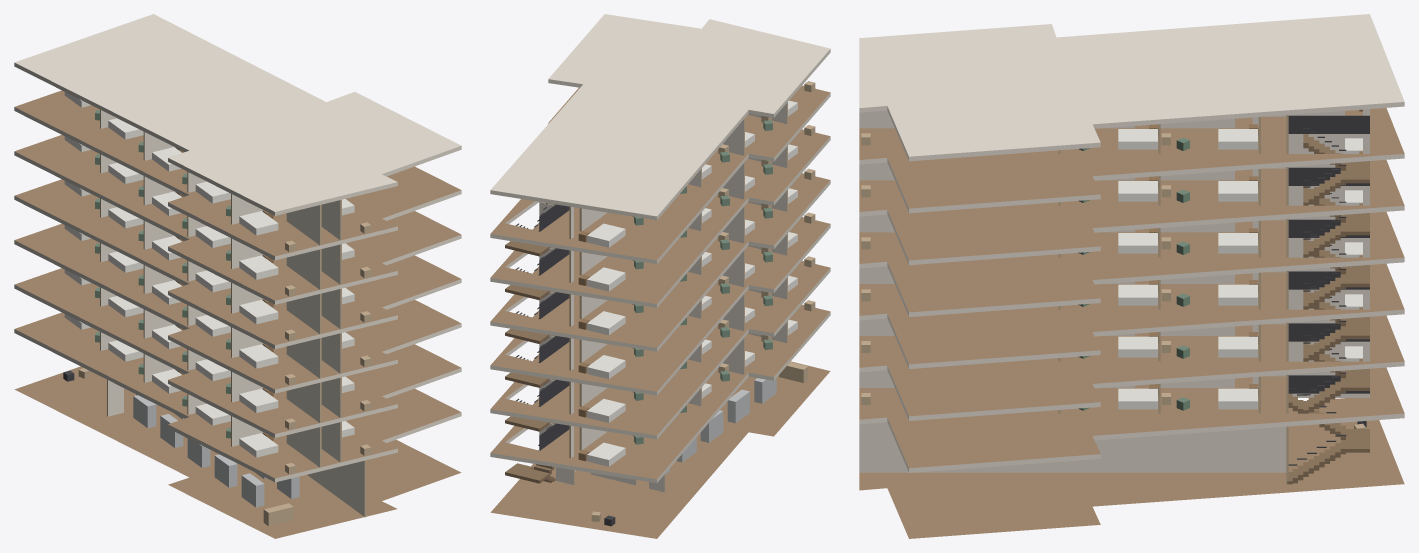
File: interior.glb
3 renders of one model, left to right at view 1: azimuth 30°, elevation 25°; view 2: azimuth 150°, elevation 25°; view 3: azimuth 270°, elevation 25°, orthographic. The views are drawn at different scales.
Visible parts, largest first — view 1: slabs, partitions, coarse-s0, coarse-s5, coarse-s3, coarse-s4, coarse-s1, coarse-s6, coarse-s2; view 2: slabs, partitions, stair, coarse-s0, coarse-s3, coarse-s6, coarse-s2, coarse-s1, coarse-s4, coarse-s5; view 3: slabs, partitions, stair, coarse-s3, coarse-s1, coarse-s2, coarse-s4, coarse-s5, coarse-s6.
Part boxes in pixels (x1,y1,x2,y2): slabs: (14,14,461,538); partitions: (100,109,366,517); coarse-s0: (63,368,299,526); coarse-s5: (64,136,371,296); coarse-s3: (64,225,371,385); coarse-s4: (64,181,371,340); coarse-s1: (64,314,371,474); coarse-s6: (64,92,371,251); coarse-s2: (64,270,371,429); slabs: (490,14,830,538); partitions: (539,102,787,492); stair: (505,203,569,483); coarse-s0: (591,362,808,526); coarse-s3: (578,212,815,379); coarse-s6: (578,81,815,247); coarse-s2: (578,256,815,422); coarse-s1: (578,300,815,466); coarse-s4: (578,168,815,335); coarse-s5: (578,125,815,291); slabs: (859,14,1404,538); partitions: (859,109,1369,484); stair: (1287,115,1369,484); coarse-s3: (861,242,1362,306); coarse-s1: (861,346,1362,410); coarse-s2: (861,294,1362,358); coarse-s4: (861,190,1362,254); coarse-s5: (861,138,1362,202); coarse-s6: (861,109,1362,150).
Bounding box in the file's own units: 17.07 × 21.34 × 27.57.
